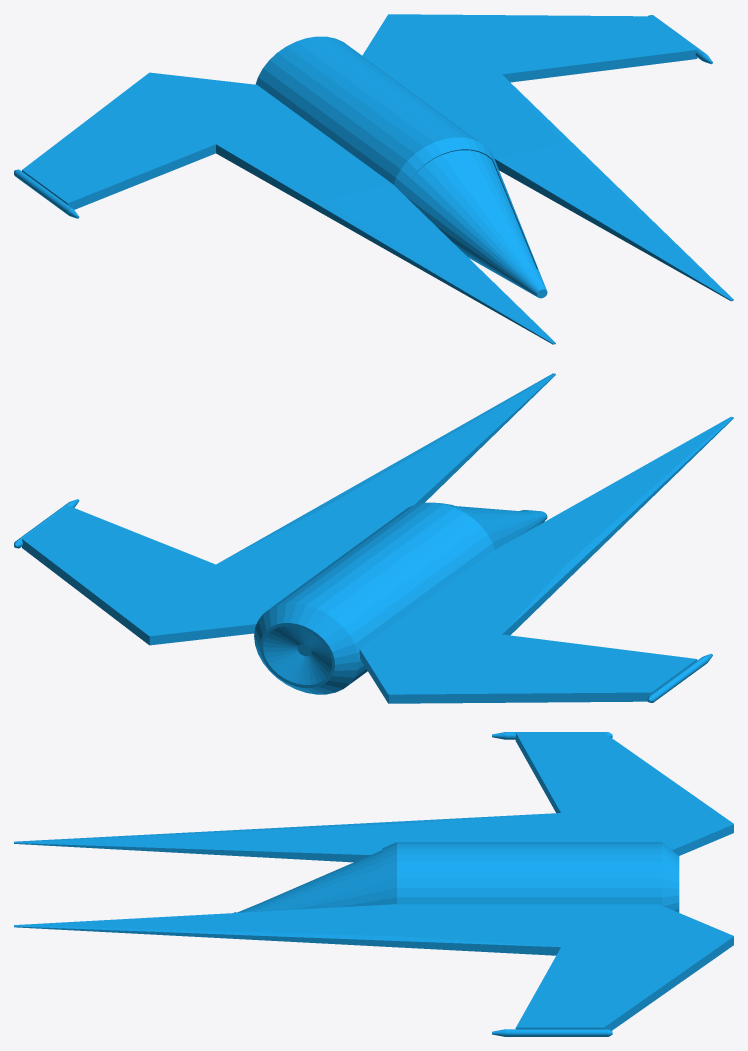
File: Falcon.fbx
The picture shows the model from 3 angles, top to bottom: view 1: azimuth 30°, elevation 25°; view 2: azimuth 150°, elevation 25°; view 3: azimuth 270°, elevation 25°; orthographic projection. The views are drawn at different scales.
Parts seen in each view (by area): view 1: Cube; view 2: Cube; view 3: Cube.
Part boxes in pixels (left/top/right/bottom): Cube: left=14, top=14, right=733, bottom=344; Cube: left=14, top=373, right=733, bottom=703; Cube: left=14, top=732, right=733, bottom=1036.
Bounding box in the file's own units: 183 × 24 × 186.
